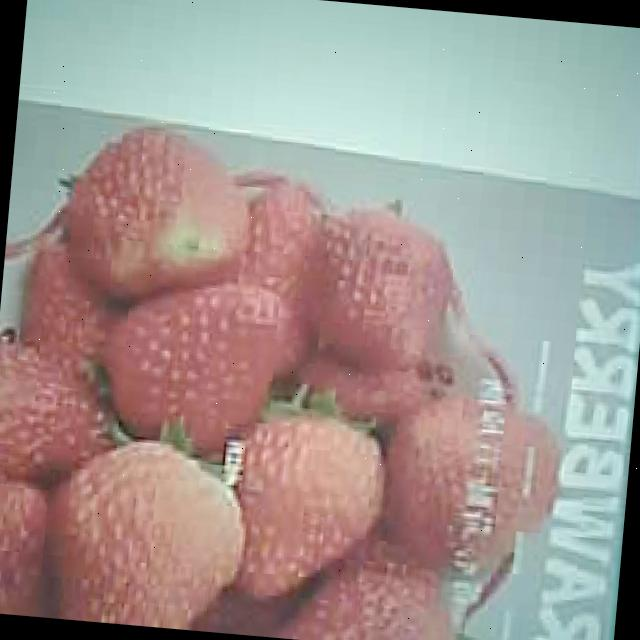strawberry: (40, 432, 246, 634), (97, 274, 290, 446), (69, 120, 254, 292), (232, 409, 383, 606)
